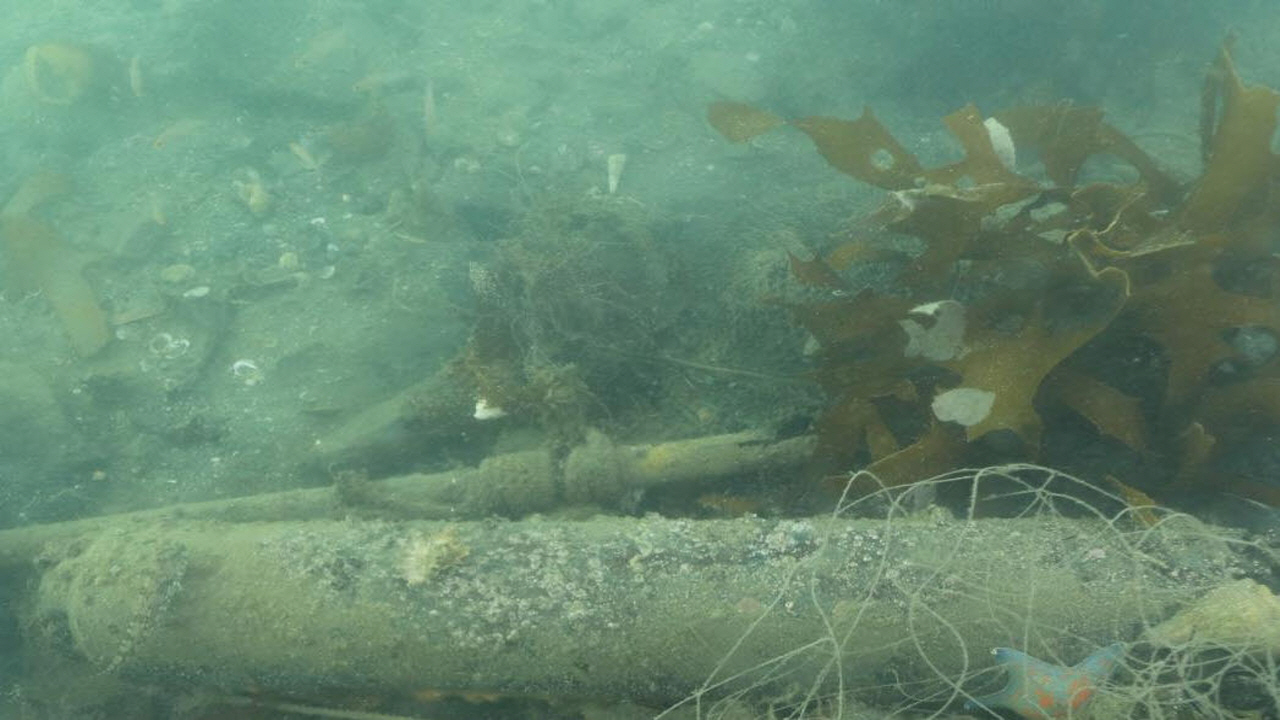eel fish trap: (32, 512, 1208, 706)
